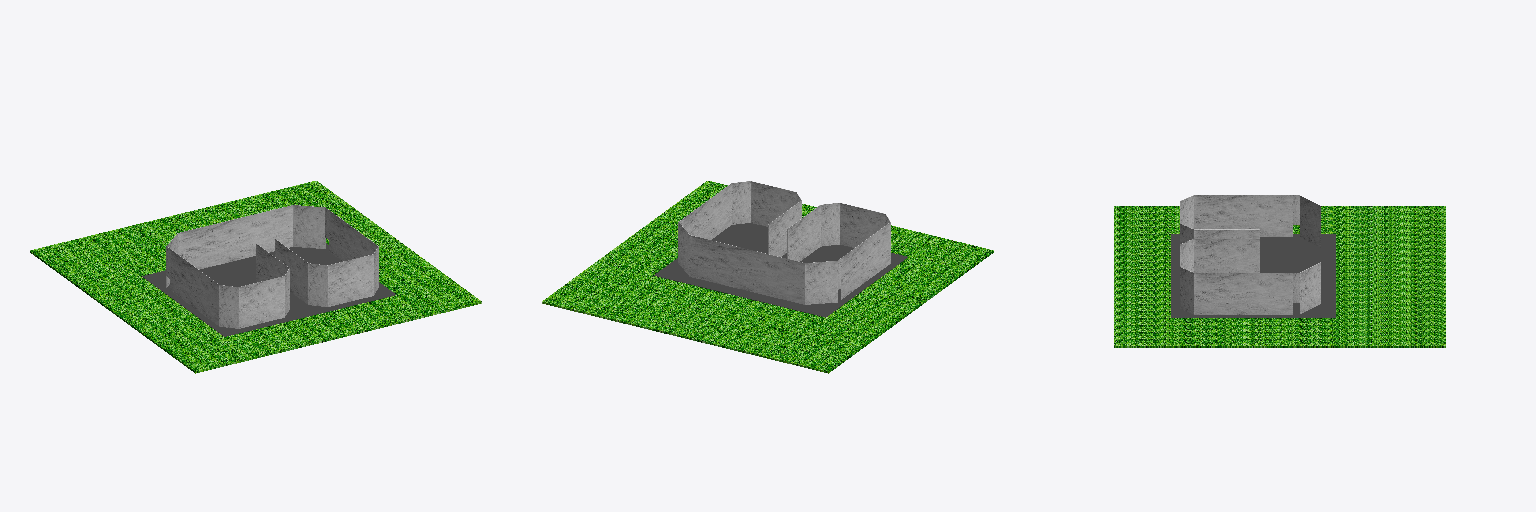
3 views of the same model, side by side, from view 1: azimuth 30°, elevation 25°; view 2: azimuth 150°, elevation 25°; view 3: azimuth 270°, elevation 25° (orthographic).
Parts seen in each view (by area): view 1: Box017, Box008, Box018, Box001, Box009, Box010, Box004, Box007, Box013, Box012, Box003, Box014; view 2: Box017, Box008, Box018, Box001, Box004, Box010, Box009, Box006, Box014, Box013, Box005, Box011; view 3: Box017, Box018, Box004, Box001, Box013, Box007, Box006, Box014, Box005.
Boxes of the visible parts, <box> form: Box017: <box>30,181,481,373</box>; Box008: <box>178,205,292,269</box>; Box018: <box>142,243,395,336</box>; Box001: <box>170,249,218,325</box>; Box009: <box>239,276,284,328</box>; Box010: <box>328,254,373,306</box>; Box004: <box>329,210,377,261</box>; Box007: <box>293,205,325,248</box>; Box013: <box>275,239,307,303</box>; Box012: <box>308,263,327,306</box>; Box003: <box>219,285,238,328</box>; Box014: <box>256,244,288,282</box>; Box017: <box>542,181,993,373</box>; Box008: <box>690,235,804,304</box>; Box018: <box>654,223,907,317</box>; Box001: <box>841,222,890,299</box>; Box004: <box>682,183,731,239</box>; Box010: <box>751,181,795,226</box>; Box009: <box>840,203,884,247</box>; Box006: <box>805,261,837,304</box>; Box014: <box>787,205,820,261</box>; Box013: <box>768,200,801,256</box>; Box005: <box>732,181,750,224</box>; Box011: <box>821,203,839,246</box>; Box017: <box>1114,206,1445,347</box>; Box018: <box>1171,234,1335,317</box>; Box004: <box>1194,273,1292,314</box>; Box001: <box>1194,195,1292,236</box>; Box013: <box>1194,239,1259,272</box>; Box007: <box>1300,262,1320,313</box>; Box006: <box>1300,196,1320,247</box>; Box014: <box>1194,229,1259,238</box>; Box005: <box>1180,267,1193,314</box>.
Bounding box in the file's own units: 500 × 73 × 500.
Materials: 4 (2 with a texture image).